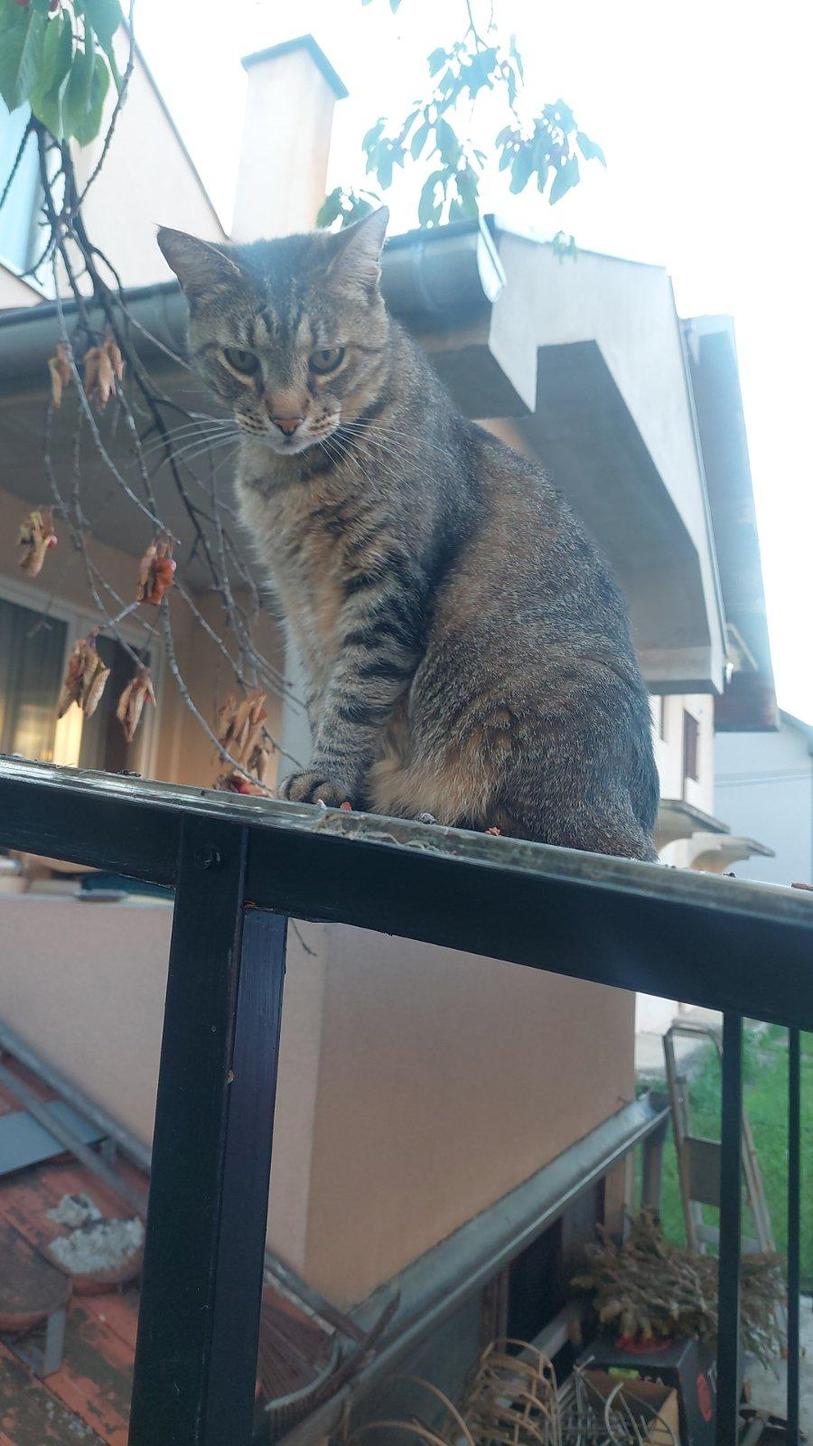macka: (151, 206, 663, 870)
